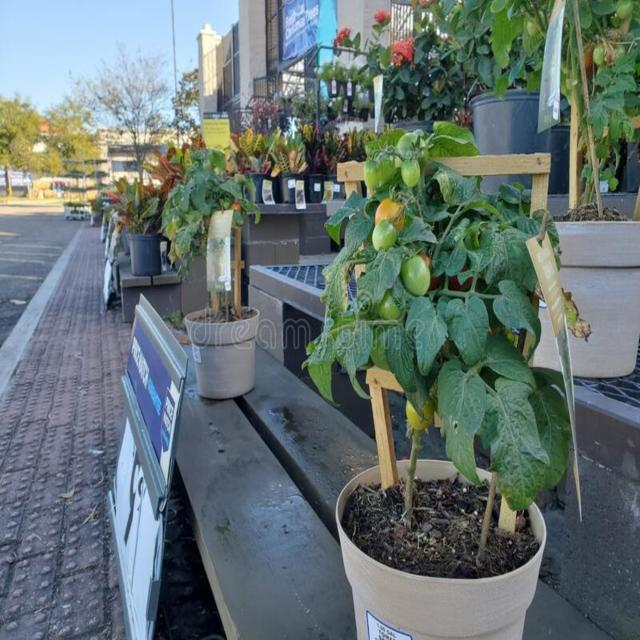plant: (305, 121, 572, 528), (162, 148, 260, 273)
